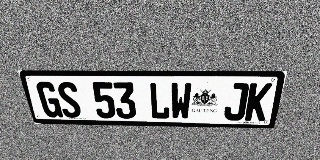3: (113, 82, 136, 119)
5: (92, 82, 117, 118)
G: (35, 82, 63, 118)
J: (223, 83, 250, 121)
K: (244, 83, 273, 121)
L: (149, 82, 170, 119)
S: (55, 82, 83, 118)
W: (171, 82, 192, 120)
